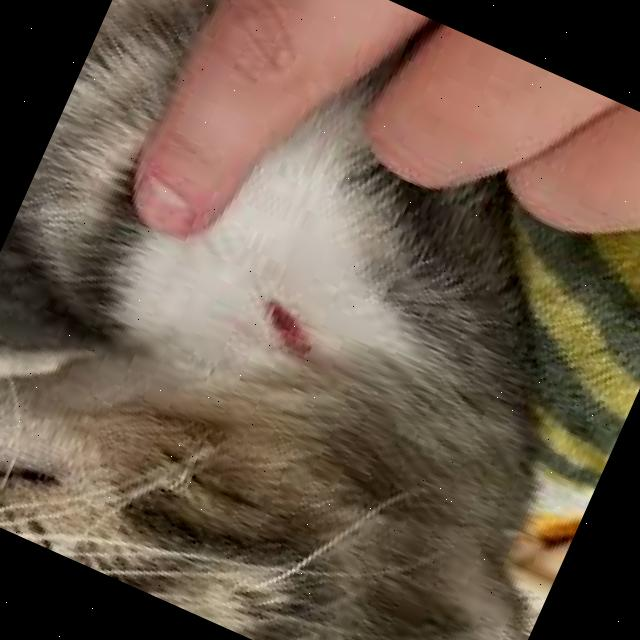cat-ringworm: (252, 298, 334, 367)
